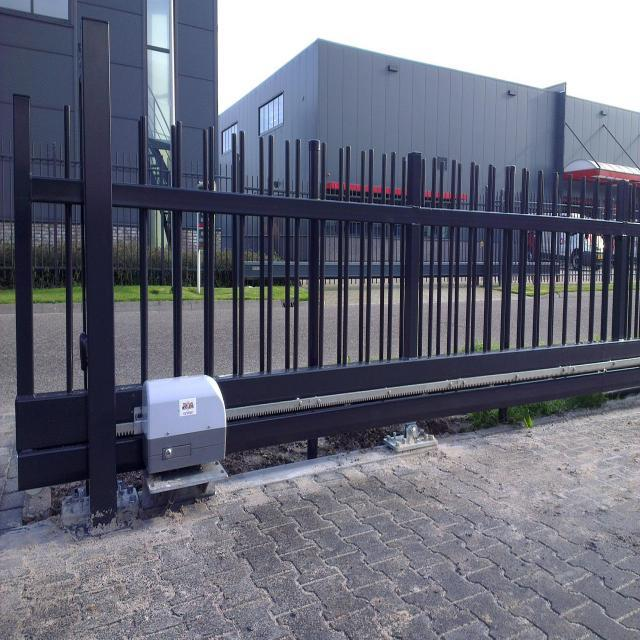fence line: (45, 132, 633, 402)
